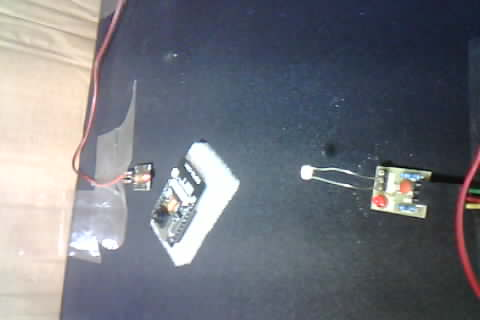esp32: (150, 141, 241, 268)
